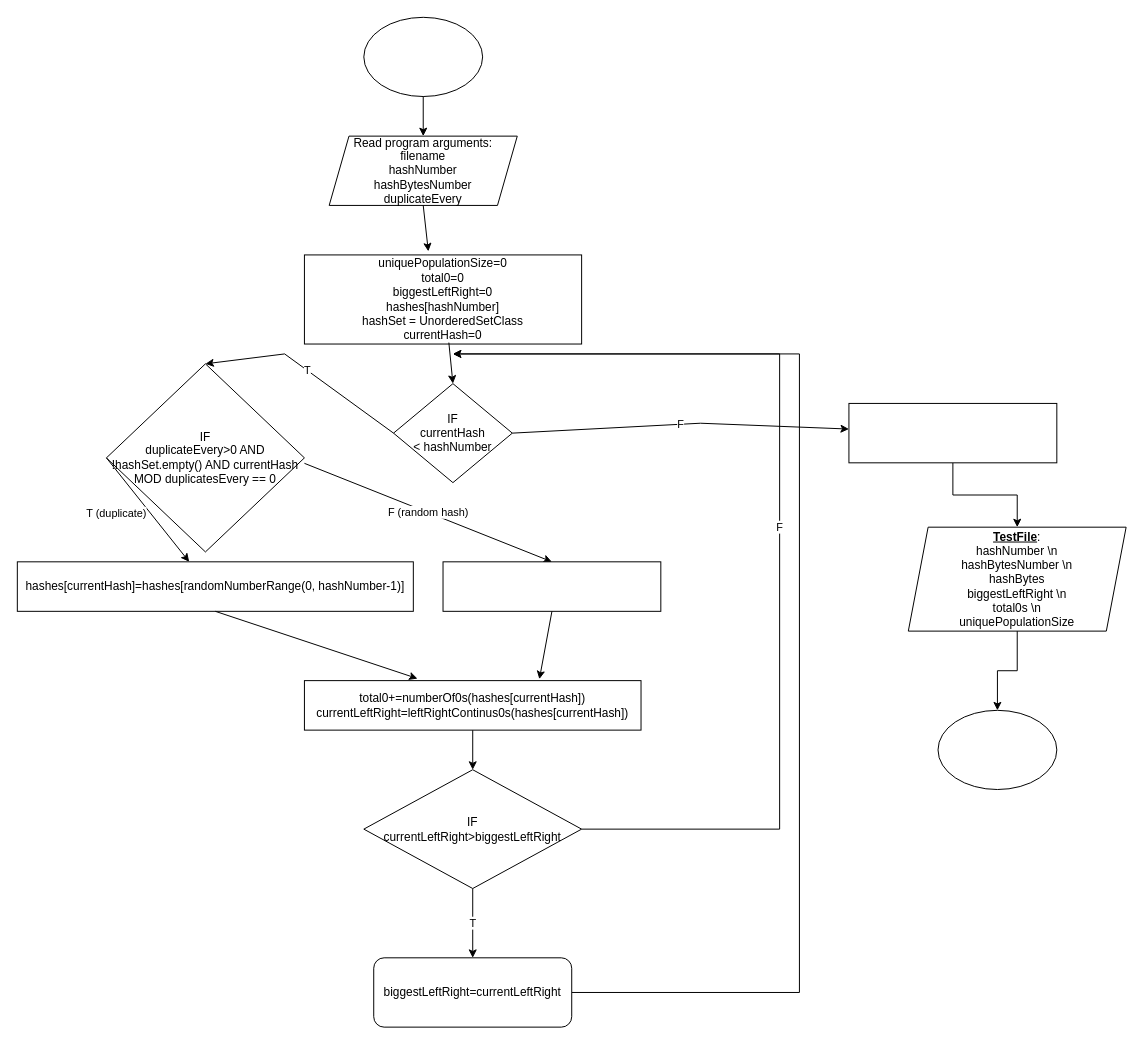
Some shapes in this 1143 by 1044 pixel diagram are drawn without their labels. Here are the shapes that lost their labels. From the top down, the box of each, then its label:
(363, 16, 483, 97): start
(848, 402, 1057, 463): uniquePopulationSize=hashSet.size()
(442, 561, 661, 611): hashes[currentHash]=randomHash()
(937, 709, 1057, 790): END
